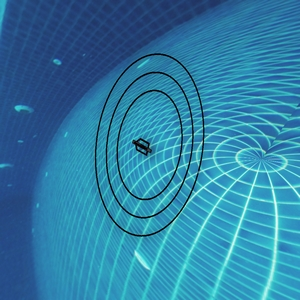circle: (92, 46, 216, 246)
submarine: (133, 136, 150, 154)
